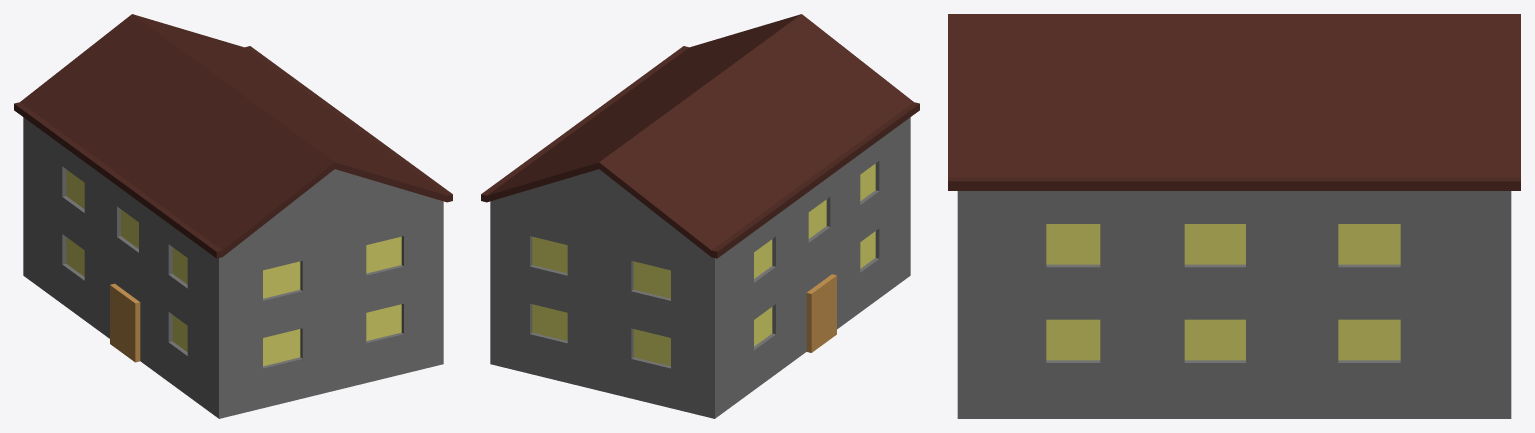
The model's file is city_house_2.fbx.
3 renders of one model, left to right at view 1: azimuth 30°, elevation 25°; view 2: azimuth 150°, elevation 25°; view 3: azimuth 270°, elevation 25°, orthographic. The views are drawn at different scales.
Visible parts, largest first — view 1: Cube; view 2: Cube; view 3: Cube.
Boxes of the visible parts, bbox=[...] form: Cube: bbox=[14, 14, 452, 418]; Cube: bbox=[481, 14, 919, 418]; Cube: bbox=[948, 14, 1520, 418].
Size of the model in its own units: 1214 by 1138 by 1804.
